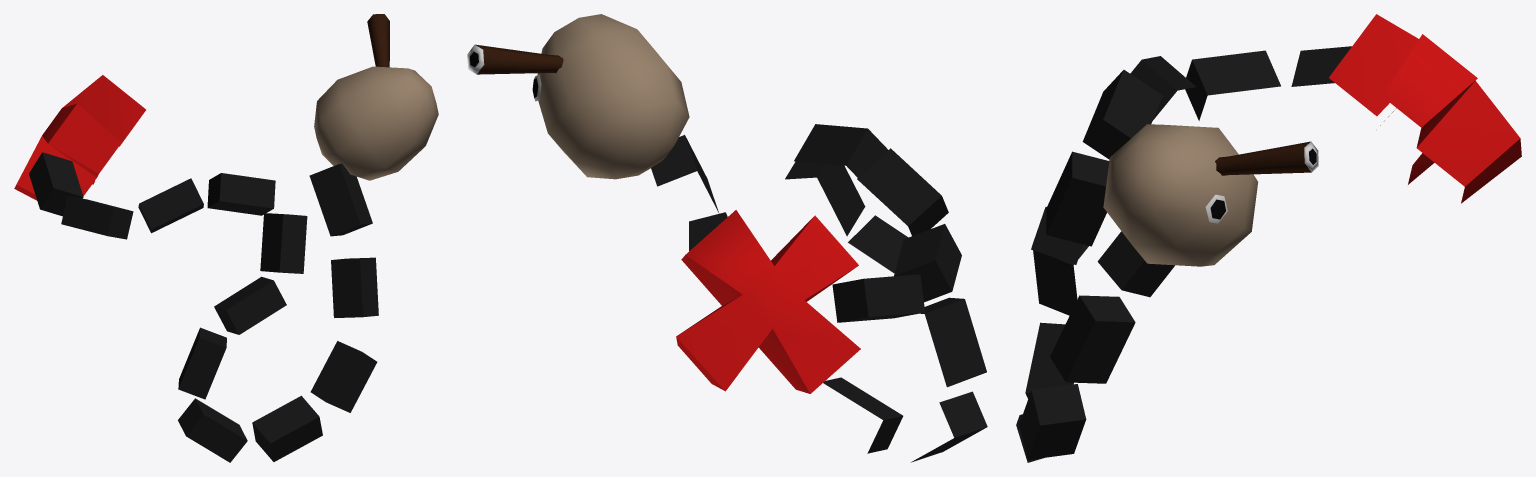
File: hat_scavenger.glb
The picture shows the model from 3 angles, left to right: view 1: azimuth 30°, elevation 25°; view 2: azimuth 150°, elevation 25°; view 3: azimuth 270°, elevation 25°; orthographic projection. The views are drawn at different scales.
Visible parts, largest first — view 1: hat_scavenger; view 2: hat_scavenger; view 3: hat_scavenger.
Part boxes in pixels (x1=…): hat_scavenger: x1=14, y1=14, x2=438, y2=462; hat_scavenger: x1=467, y1=14, x2=987, y2=462; hat_scavenger: x1=1016, y1=14, x2=1521, y2=462.
Size of the model in its own units: 0.5036 by 0.4508 by 0.4626.
